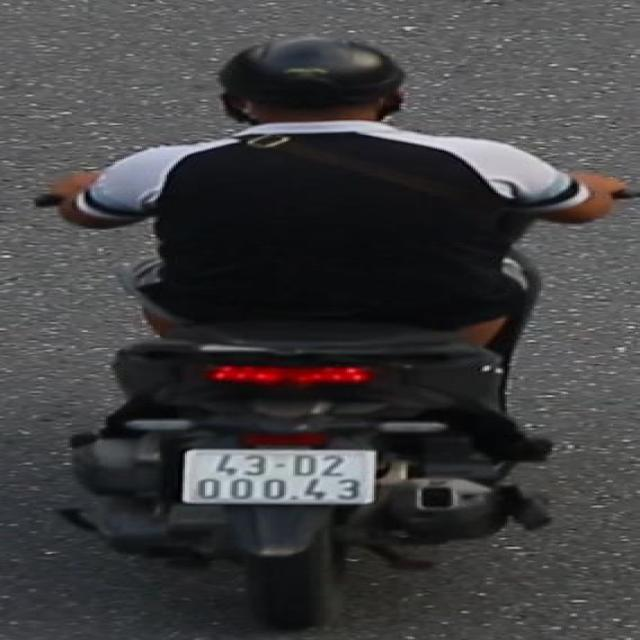LP: (177, 445, 384, 509)
helmet: (190, 32, 440, 147)
